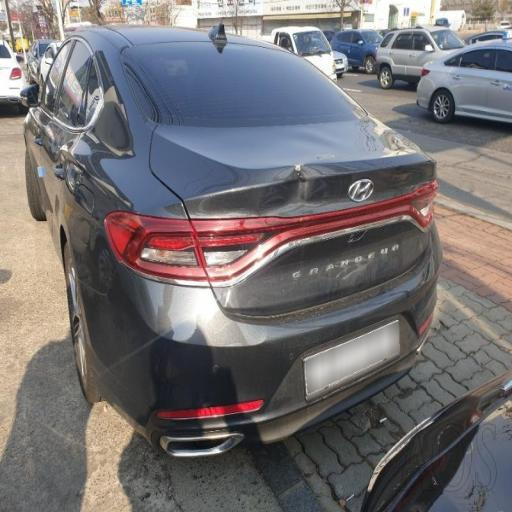dent: (269, 135, 374, 236)
scratch: (76, 225, 124, 311)
